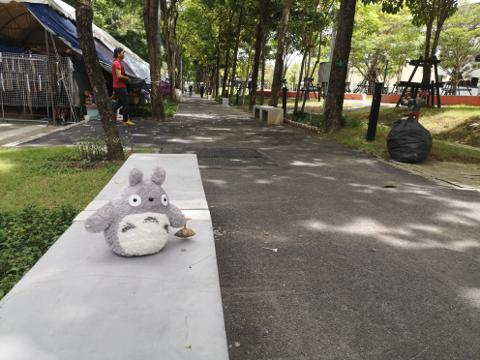totoro: (84, 164, 197, 261)
